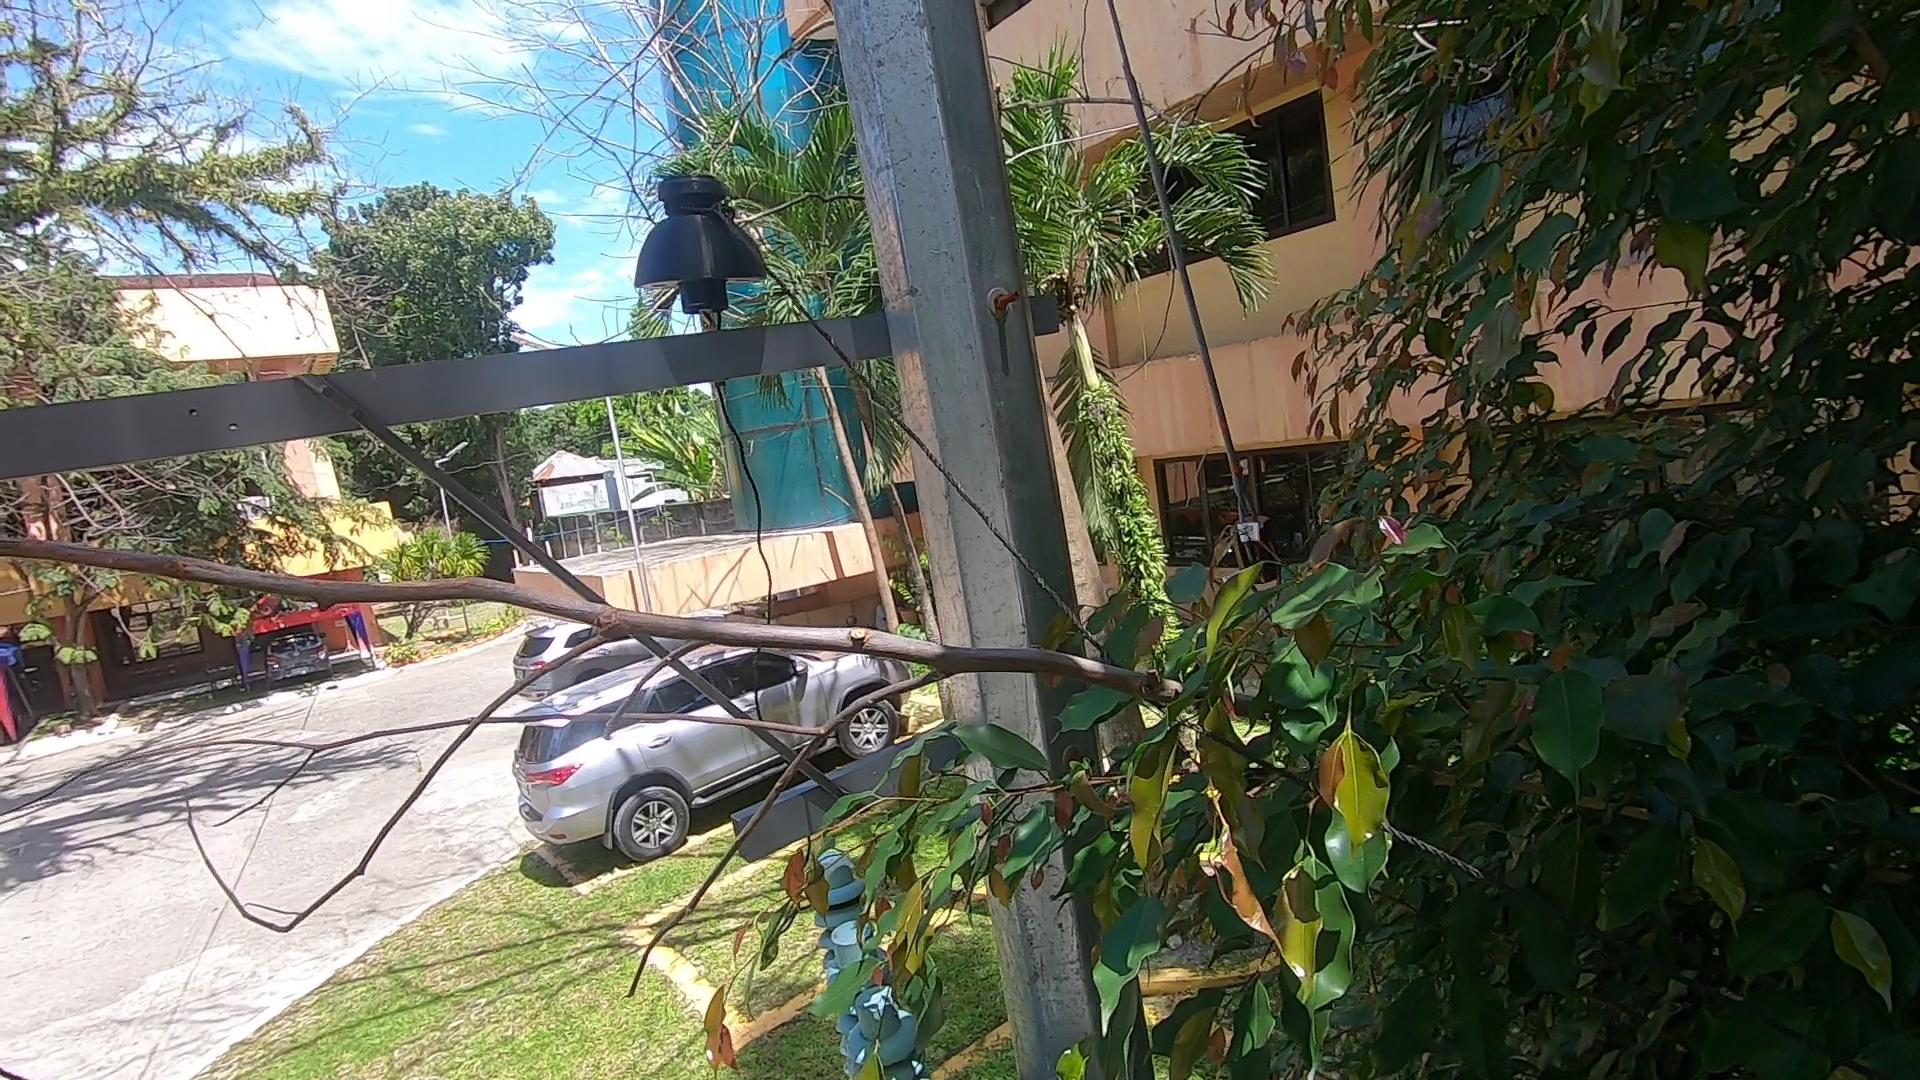tree branch: (1, 520, 1283, 1021)
